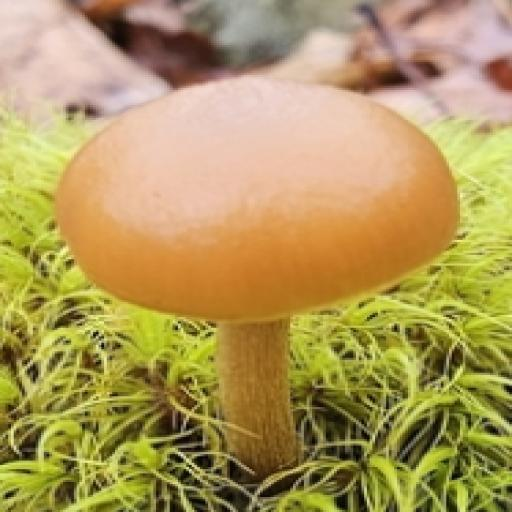mushroom: (43, 69, 469, 430)
